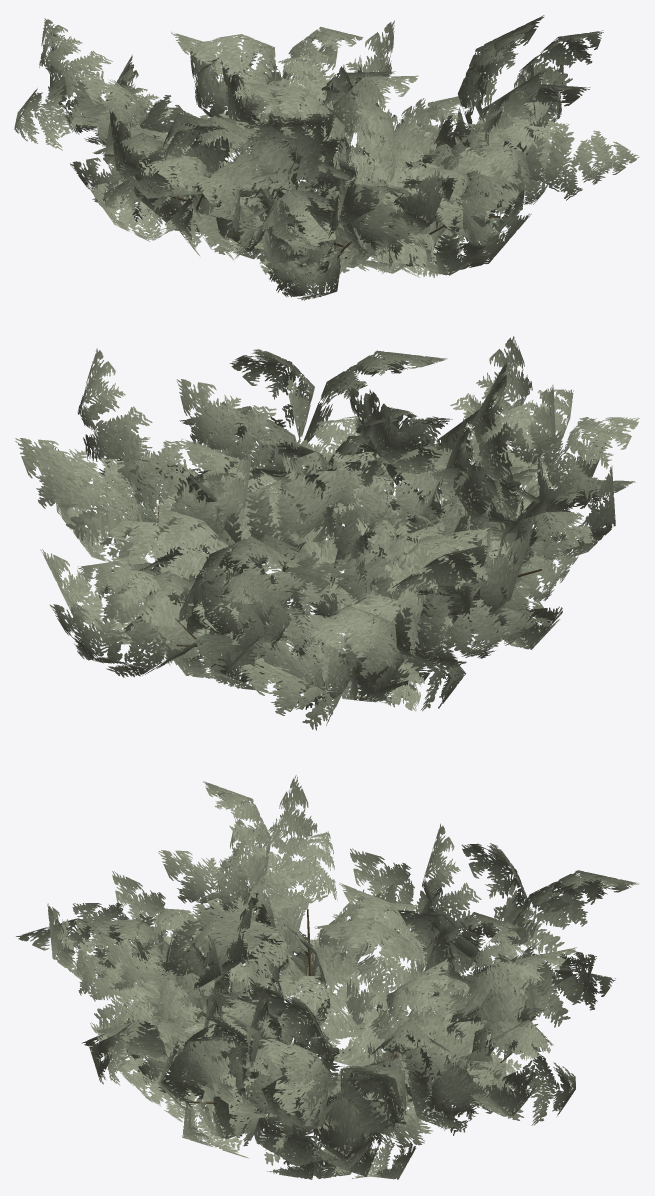
Rendered from SM_CN_Sage_A_LOD1.fbx.
3 views of the same model, one above another, from view 1: azimuth 30°, elevation 25°; view 2: azimuth 150°, elevation 25°; view 3: azimuth 270°, elevation 25° (orthographic). The views are drawn at different scales.
Visible parts, largest first — view 1: SM_CN_Sage_A_LOD1; view 2: SM_CN_Sage_A_LOD1; view 3: SM_CN_Sage_A_LOD1.
Part boxes in pixels (box(x1,y1,x2,y2)): SM_CN_Sage_A_LOD1: box(14, 15, 639, 300); SM_CN_Sage_A_LOD1: box(15, 336, 639, 730); SM_CN_Sage_A_LOD1: box(16, 775, 639, 1179).
Bounding box in the file's own units: 0.9512 × 1 × 0.45.
